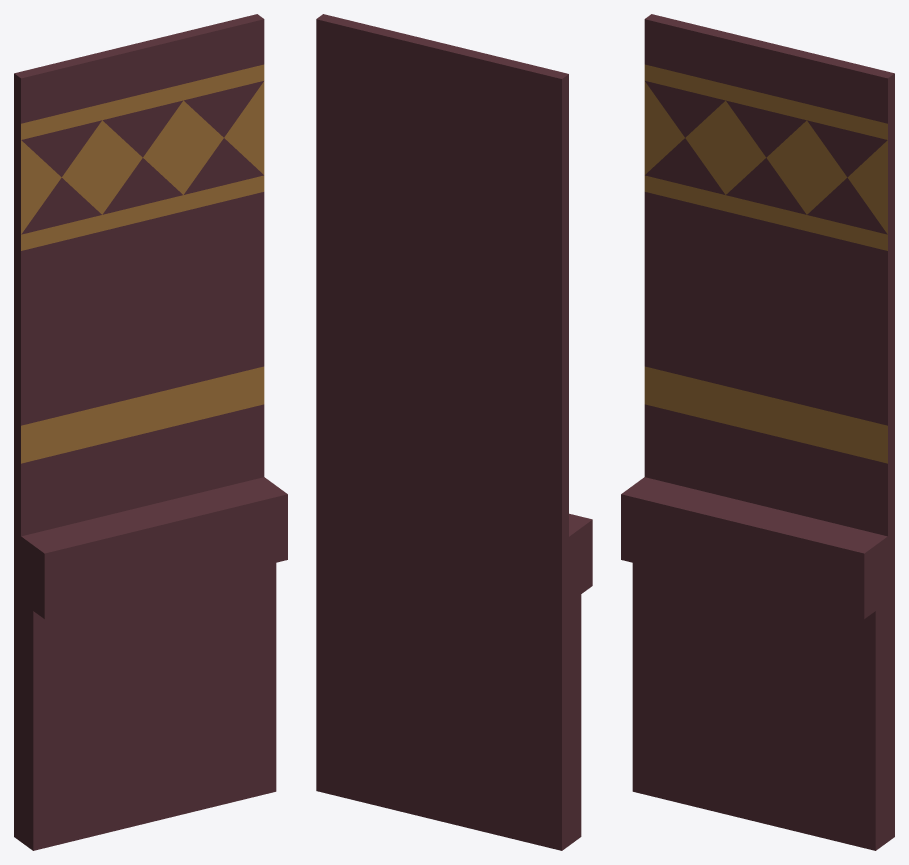
The model's file is empire-wall-r-3x1m-rim-empire.glb.
3 views of the same model, side by side, from view 1: azimuth 30°, elevation 25°; view 2: azimuth 150°, elevation 25°; view 3: azimuth 330°, elevation 25° (orthographic).
Parts seen in each view (by area): view 1: SM_Wall_R_3x1m_Rim_Empire; view 2: SM_Wall_R_3x1m_Rim_Empire; view 3: SM_Wall_R_3x1m_Rim_Empire.
Part boxes in pixels (x1,y1,x2,y2): SM_Wall_R_3x1m_Rim_Empire: (14, 14, 287, 850); SM_Wall_R_3x1m_Rim_Empire: (316, 14, 592, 850); SM_Wall_R_3x1m_Rim_Empire: (621, 14, 894, 850).
Bounding box in the file's own units: 1 × 3 × 0.217.
